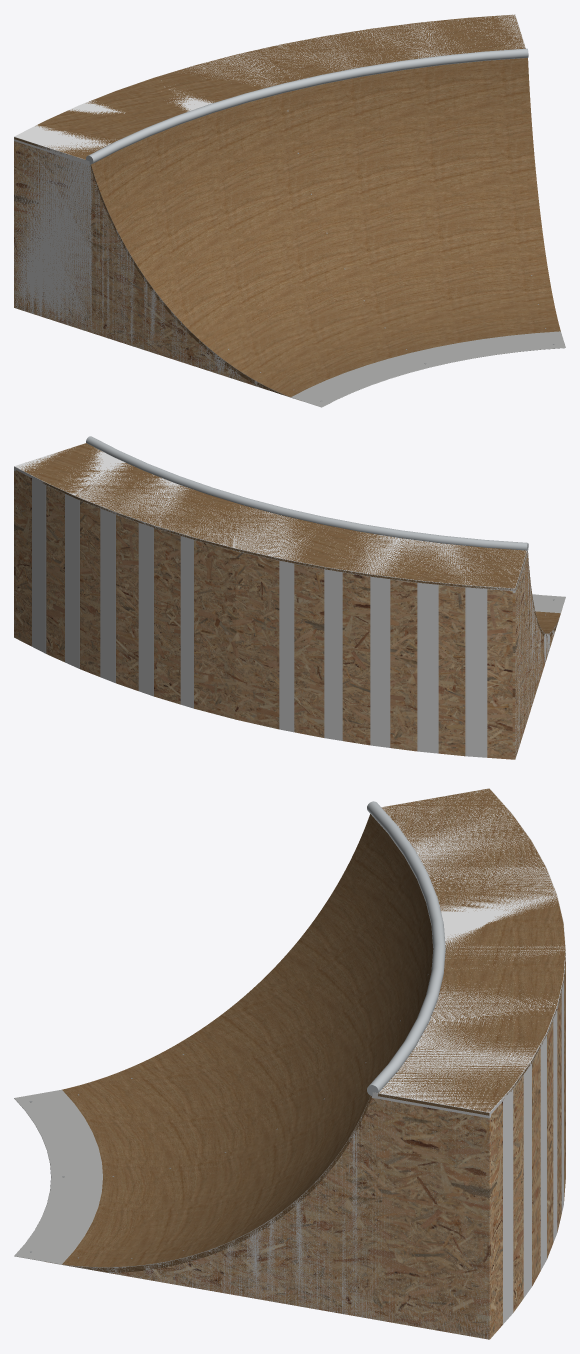
File: quarter_corner.glb
The picture shows the model from 3 angles, top to bottom: view 1: azimuth 30°, elevation 25°; view 2: azimuth 150°, elevation 25°; view 3: azimuth 270°, elevation 25°; orthographic projection. The views are drawn at different scales.
Visible parts, largest first — view 1: quarter_corner_plywood, COL_quarter_corner, quarter_corner_osb, quarter_corner_scuffed steel plate, quarter_corner_galvanized steel; view 2: quarter_corner_osb, COL_quarter_corner, quarter_corner_plywood, quarter_corner_galvanized steel, quarter_corner_scuffed steel plate; view 3: quarter_corner_plywood, quarter_corner_osb, COL_quarter_corner, quarter_corner_scuffed steel plate, quarter_corner_galvanized steel.
Part boxes in pixels (<box>): quarter_corner_plywood: <box>14,14,560,397</box>; COL_quarter_corner: <box>14,14,525,397</box>; quarter_corner_osb: <box>14,141,259,387</box>; quarter_corner_scuffed steel plate: <box>291,331,565,407</box>; quarter_corner_galvanized steel: <box>86,48,528,164</box>; quarter_corner_osb: <box>14,470,555,759</box>; COL_quarter_corner: <box>14,443,558,758</box>; quarter_corner_plywood: <box>20,443,560,637</box>; quarter_corner_galvanized steel: <box>86,436,528,551</box>; quarter_corner_scuffed steel plate: <box>532,594,565,613</box>; quarter_corner_plywood: <box>46,788,565,1272</box>; quarter_corner_osb: <box>109,956,565,1339</box>; COL_quarter_corner: <box>50,788,565,1339</box>; quarter_corner_scuffed steel plate: <box>14,1089,102,1264</box>; quarter_corner_galvanized steel: <box>367,801,445,1096</box>.
Size of the model in its own units: 3.68 by 1.24 by 2.64.
5 materials, 2 textured.
